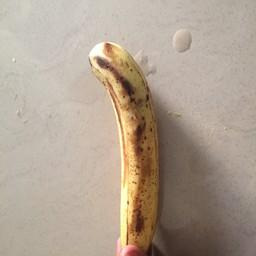Banana Ripe: (65, 33, 204, 256)
